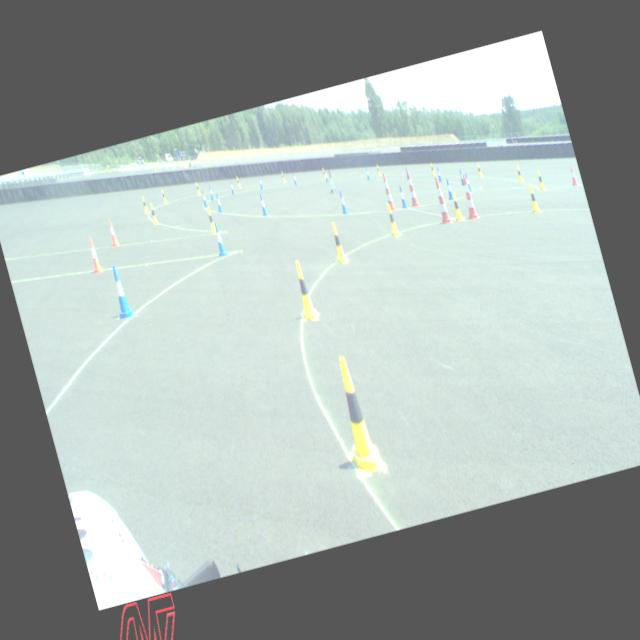blue_cone: (106, 262, 134, 320), (210, 221, 228, 257), (336, 190, 348, 214), (397, 184, 408, 208), (257, 193, 268, 216), (444, 178, 454, 200), (214, 192, 223, 212), (464, 172, 472, 191), (200, 189, 208, 207), (434, 166, 442, 182), (208, 184, 215, 200), (457, 168, 464, 184), (403, 165, 409, 179), (228, 180, 234, 193), (258, 176, 264, 189), (364, 167, 370, 180), (292, 172, 298, 185), (323, 170, 329, 182)
large_orange_cone: (428, 176, 452, 226), (456, 172, 480, 222), (380, 172, 396, 210), (403, 170, 419, 207)
orange_cone: (85, 236, 103, 274), (105, 218, 119, 246), (568, 166, 578, 186)
yellow_cone: (325, 352, 385, 474), (288, 258, 318, 322), (328, 221, 348, 264), (384, 203, 400, 236), (525, 184, 540, 213), (449, 192, 463, 220), (205, 206, 216, 234), (534, 168, 546, 190), (148, 202, 159, 225), (140, 195, 149, 214), (514, 164, 523, 182), (475, 162, 483, 177), (160, 188, 167, 204), (428, 162, 436, 175), (194, 182, 201, 194), (236, 175, 242, 188), (280, 170, 286, 182), (375, 164, 381, 175), (321, 166, 326, 178)
